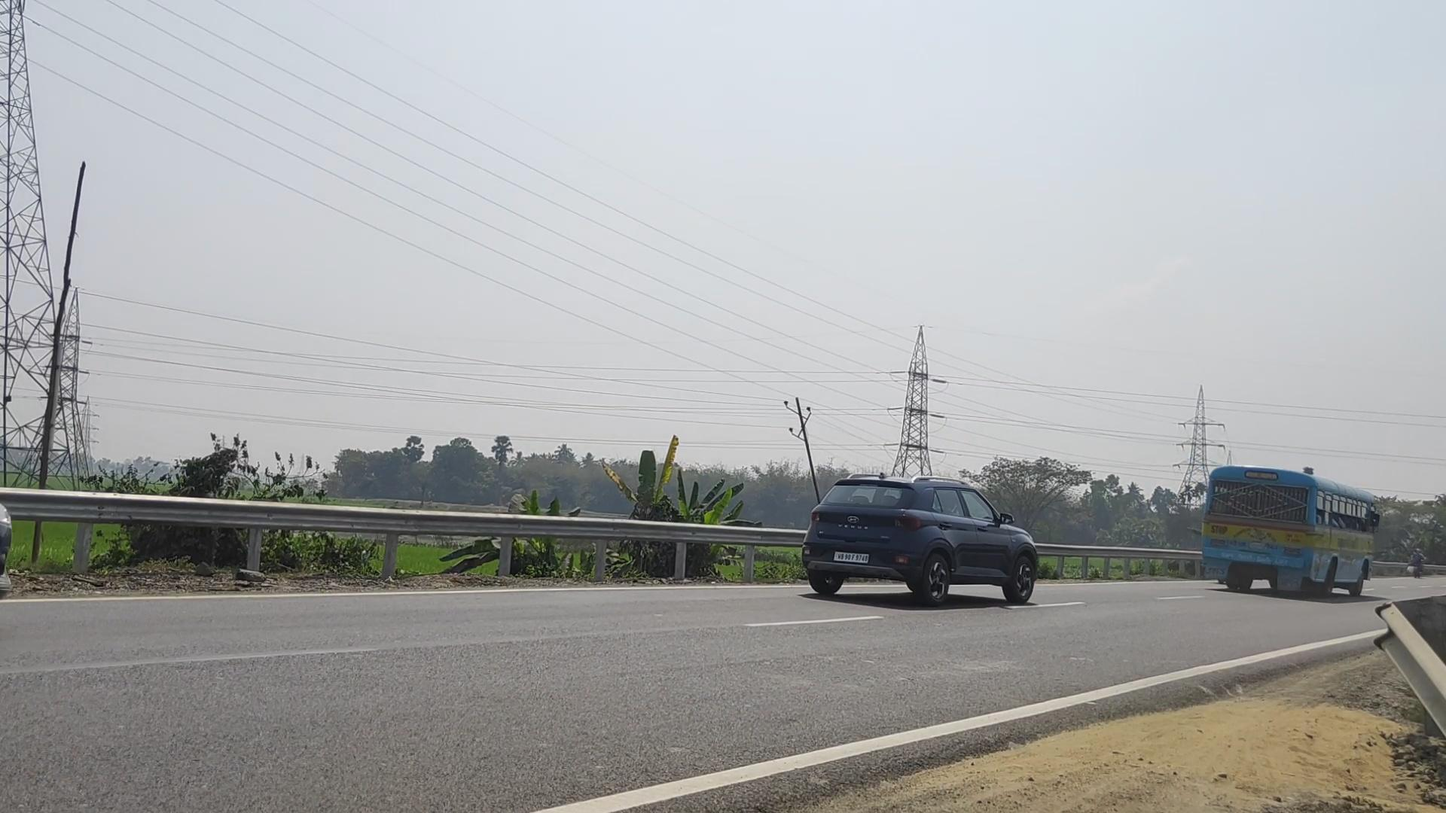Bus: (1201, 465, 1380, 598)
car: (802, 472, 1039, 607)
